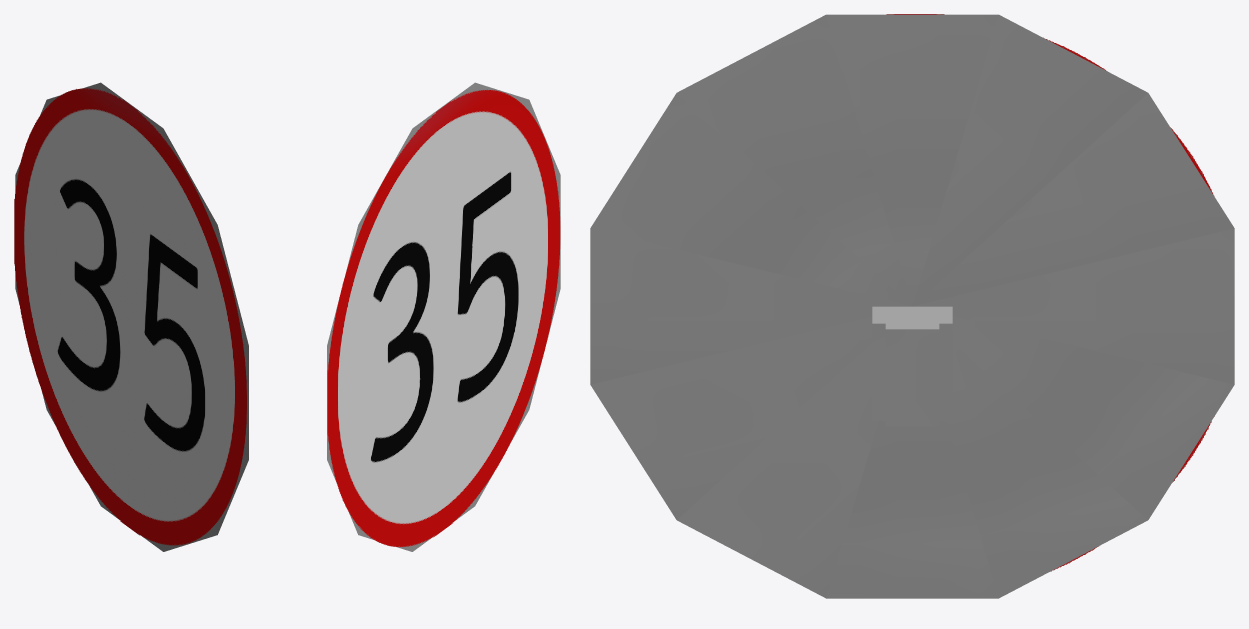
The model's file is speed_35_medium.obj.
3 renders of one model, left to right at view 1: azimuth 30°, elevation 25°; view 2: azimuth 150°, elevation 25°; view 3: azimuth 270°, elevation 25°, orthographic. The views are drawn at different scales.
Parts seen in each view (by area): view 1: cube, circle; view 2: cube, circle; view 3: circle, cube.
Part boxes in pixels (bbox=[...]): cube: bbox=[14, 88, 246, 545]; circle: bbox=[15, 82, 248, 551]; cube: bbox=[327, 89, 560, 547]; circle: bbox=[327, 82, 560, 551]; circle: bbox=[590, 14, 1234, 598]; cube: bbox=[872, 14, 1214, 571].
Bounding box in the file's own units: 0.0641 × 0.75 × 0.75.
Materials: 2 (2 with a texture image).
